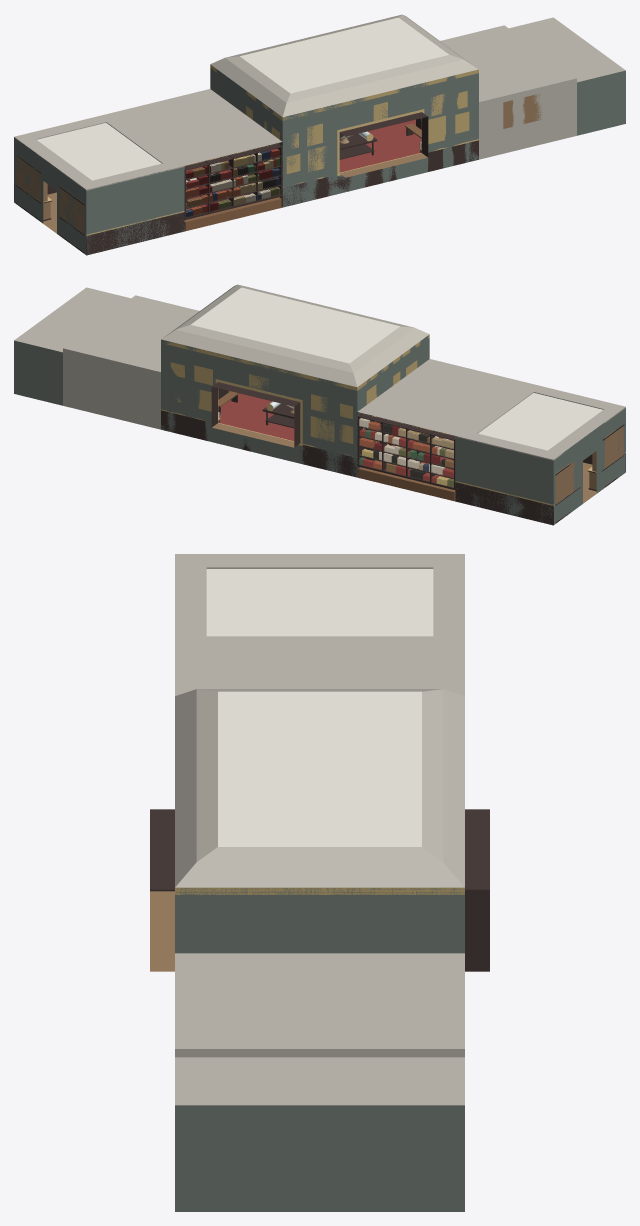
Rendered from Nautilus_Interior_Fore.fbx.
3 views of the same model, one above another, from view 1: azimuth 30°, elevation 25°; view 2: azimuth 150°, elevation 25°; view 3: azimuth 270°, elevation 25° (orthographic). The views are drawn at different scales.
Visible parts, largest first — view 1: saloon_shell__col, nemo_shell__col, dining_shell__col, saloon_ceiling_light, dining_room__col, library_shell__col, saloon_cove, aronnax_shell__col, library_books, dining_ceiling_light, library__col, saloon_frames (+5 smaller); view 2: saloon_shell__col, nemo_shell__col, dining_shell__col, saloon_ceiling_light, library_shell__col, dining_room__col, saloon_cove, aronnax_shell__col, dining_ceiling_light, library_books, library__col, saloon_frames (+4 smaller); view 3: aronnax_shell__col, saloon_ceiling_light, nemo_shell__col, saloon_cove, saloon_shell__col, dining_ceiling_light, dining_room__col, library_shell__col, saloon_window_P__col, saloon_window_S__col, saloon_cornice.
Part boxes in pixels (<box>): saloon_shell__col: <box>210,68,478,207</box>; nemo_shell__col: <box>440,25,576,159</box>; dining_shell__col: <box>14,137,184,254</box>; saloon_ceiling_light: <box>240,17,448,93</box>; dining_room__col: <box>14,113,184,255</box>; library_shell__col: <box>112,89,282,231</box>; saloon_cove: <box>210,14,478,117</box>; aronnax_shell__col: <box>509,17,625,135</box>; library_books: <box>186,146,280,217</box>; dining_ceiling_light: <box>37,123,161,180</box>; library__col: <box>184,143,282,231</box>; saloon_frames: <box>245,91,469,173</box>; saloon_shell__col: <box>161,335,429,477</box>; nemo_shell__col: <box>63,295,199,429</box>; dining_shell__col: <box>455,408,625,524</box>; saloon_ceiling_light: <box>191,287,399,363</box>; library_shell__col: <box>357,359,527,501</box>; dining_room__col: <box>455,383,625,525</box>; saloon_cove: <box>161,284,429,387</box>; aronnax_shell__col: <box>14,287,130,405</box>; dining_ceiling_light: <box>478,393,602,450</box>; library_books: <box>359,416,453,487</box>; library__col: <box>357,413,455,501</box>; saloon_frames: <box>170,360,417,443</box>; aronnax_shell__col: <box>175,1057,464,1211</box>; saloon_ceiling_light: <box>218,691,421,846</box>; nemo_shell__col: <box>175,953,464,1057</box>; saloon_cove: <box>175,689,464,887</box>; saloon_shell__col: <box>175,887,464,953</box>; dining_ceiling_light: <box>206,569,433,636</box>; dining_room__col: <box>175,554,464,649</box>; library_shell__col: <box>175,649,464,695</box>; saloon_window_P__col: <box>465,809,489,971</box>; saloon_window_S__col: <box>150,809,174,971</box>; saloon_cornice: <box>175,887,464,894</box>.
Bounding box in the file's own units: 27.5 × 4.95 × 7.5.
